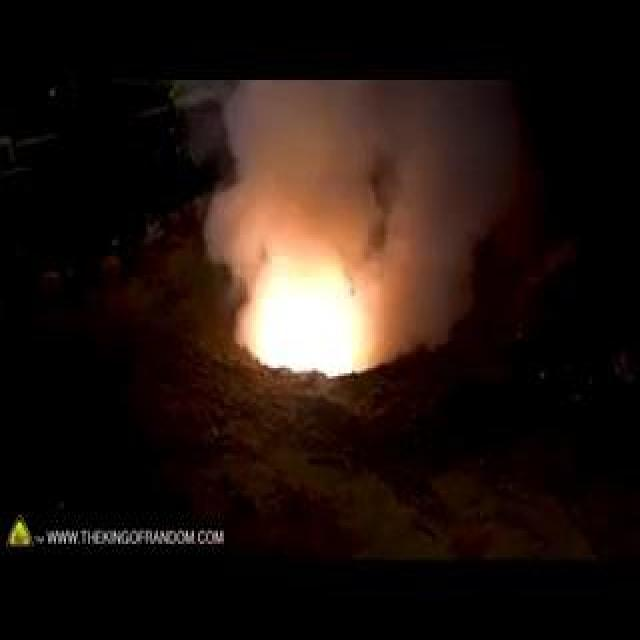Fire: (154, 176, 300, 280)
